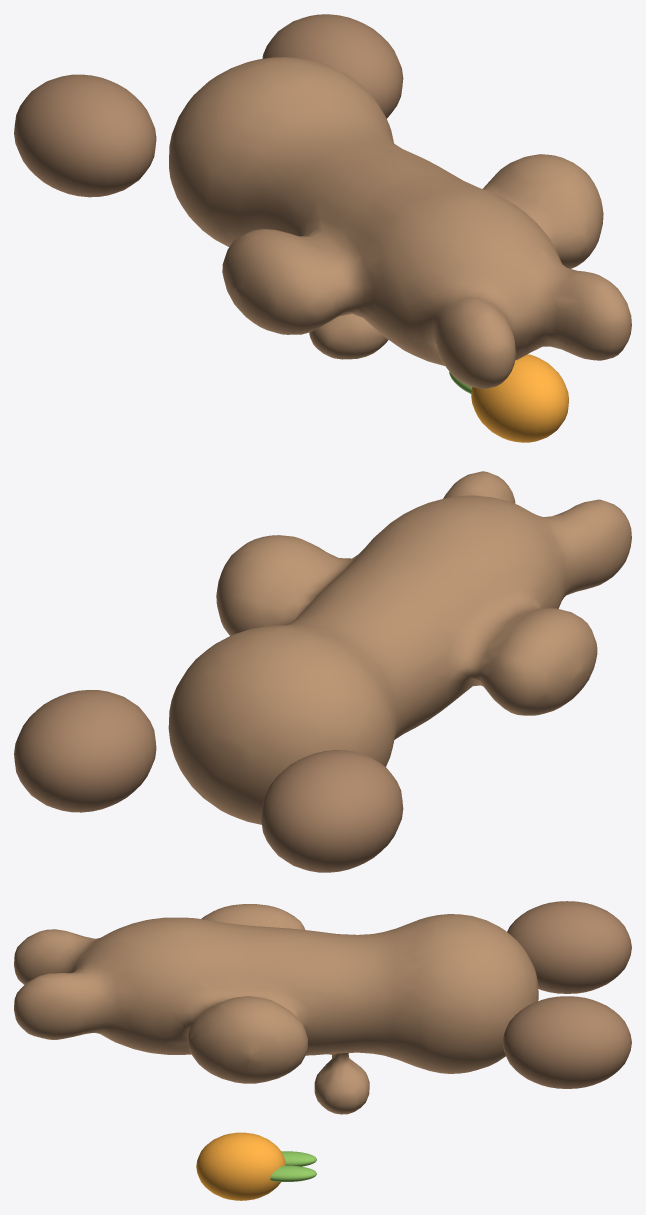
File: capi.glb
3 renders of one model, top to bottom at view 1: azimuth 30°, elevation 25°; view 2: azimuth 150°, elevation 25°; view 3: azimuth 270°, elevation 25°, orthographic. The views are drawn at different scales.
Visible parts, largest first — view 1: capi_surface, ear, ear.001, carrot; view 2: capi_surface, ear, ear.001; view 3: capi_surface, ear.001, ear, carrot, carrot_leaf.001, carrot_leaf.
Part boxes in pixels (x1,y1,x2,y2): capi_surface: (169, 57, 631, 388); ear: (14, 74, 156, 197); ear.001: (262, 14, 403, 118); carrot: (471, 354, 568, 442); capi_surface: (168, 471, 631, 824); ear: (261, 750, 403, 872); ear.001: (14, 690, 156, 812); capi_surface: (14, 904, 538, 1114); ear.001: (502, 996, 631, 1088); ear: (507, 901, 631, 993); carrot: (196, 1132, 285, 1200); carrot_leaf.001: (270, 1165, 316, 1181); carrot_leaf: (281, 1151, 316, 1166).
Bounding box in the file's own units: 1.19 × 0.9139 × 2.2.
